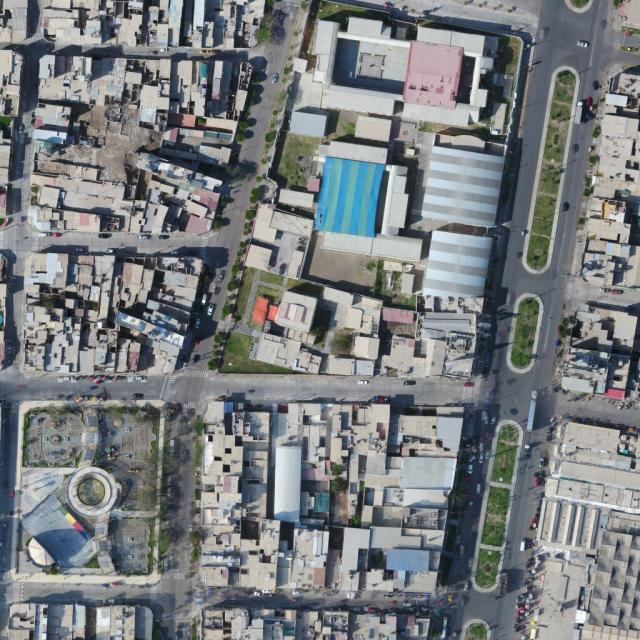building: (198, 401, 333, 593), (20, 253, 205, 379), (37, 53, 250, 132), (19, 403, 159, 512), (326, 484, 450, 597), (580, 66, 640, 287), (327, 403, 465, 491), (126, 151, 227, 243), (561, 304, 639, 399), (19, 493, 102, 579), (422, 146, 507, 229), (202, 609, 429, 640), (556, 421, 640, 491), (315, 156, 386, 238), (591, 514, 640, 632), (424, 229, 493, 303), (332, 36, 411, 93), (535, 496, 607, 556), (412, 313, 477, 379), (403, 40, 465, 108), (158, 114, 236, 167), (321, 226, 424, 262), (253, 332, 325, 377), (65, 466, 119, 520), (549, 477, 640, 509), (327, 84, 403, 116), (19, 467, 63, 519), (111, 519, 151, 574), (382, 164, 412, 236), (403, 99, 480, 126), (309, 19, 340, 84), (274, 290, 319, 333), (50, 175, 125, 200), (30, 103, 71, 144), (318, 139, 388, 163), (293, 70, 328, 116), (381, 335, 418, 377), (61, 189, 114, 217), (372, 234, 424, 262), (35, 159, 99, 181), (0, 49, 21, 115), (337, 30, 411, 48), (270, 209, 315, 238), (251, 203, 282, 244), (435, 131, 487, 152), (355, 114, 393, 142), (289, 111, 327, 138), (451, 32, 487, 55), (61, 212, 100, 233), (347, 15, 384, 37), (469, 55, 485, 105), (244, 244, 273, 271), (321, 286, 356, 307), (282, 326, 317, 346), (0, 254, 6, 370), (25, 205, 51, 231), (353, 336, 380, 361), (279, 189, 314, 208), (417, 27, 453, 44), (32, 606, 50, 640), (381, 307, 416, 324), (134, 607, 152, 640), (328, 355, 356, 376), (38, 185, 60, 208), (72, 606, 85, 640), (110, 198, 133, 216), (355, 359, 375, 377), (29, 174, 55, 187), (360, 314, 375, 335), (476, 88, 489, 107), (293, 57, 308, 73), (482, 56, 495, 69), (29, 173, 43, 185)
dryland: (35, 82, 169, 194), (328, 491, 348, 528)
greenland: (329, 476, 349, 495)
metalled_road: (192, 12, 302, 324), (162, 365, 476, 413), (152, 410, 216, 640), (23, 227, 214, 260), (207, 592, 431, 619), (4, 39, 253, 63), (18, 583, 156, 609), (0, 402, 15, 640), (6, 107, 37, 217), (185, 315, 220, 371), (17, 46, 41, 115), (205, 586, 275, 607), (209, 269, 238, 312), (218, 158, 260, 186), (25, 0, 39, 40), (205, 588, 227, 609), (0, 41, 25, 51), (11, 584, 22, 604), (148, 586, 157, 604)
